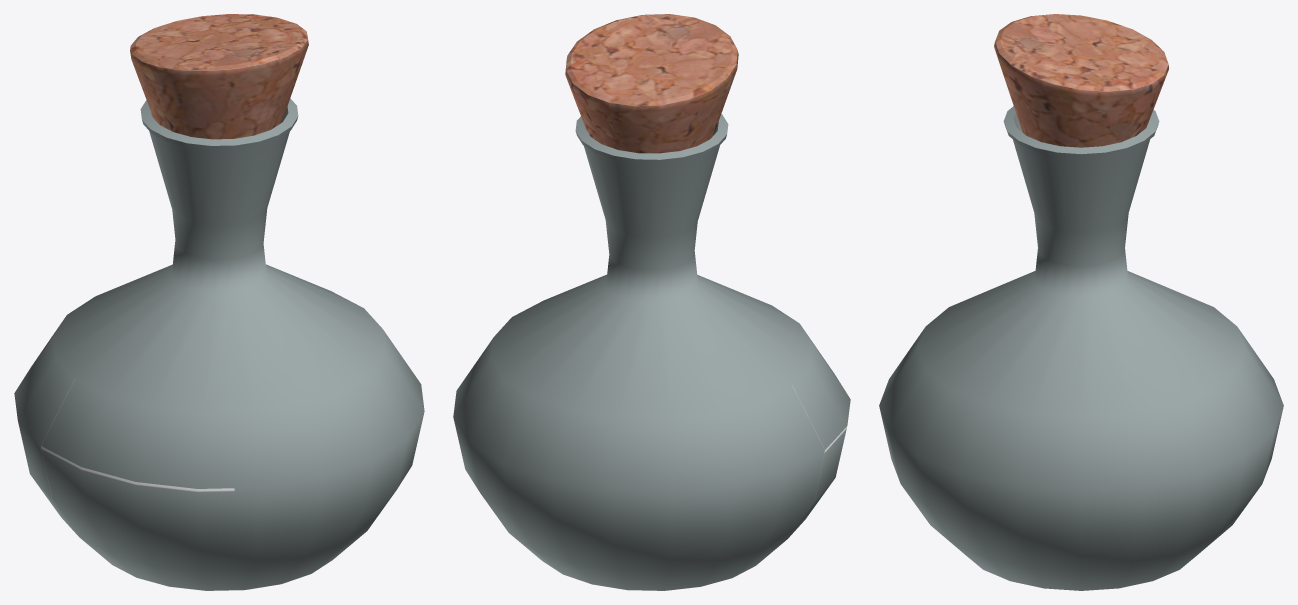
The model's file is mana_potion.glb.
3 renders of one model, left to right at view 1: azimuth 30°, elevation 25°; view 2: azimuth 150°, elevation 25°; view 3: azimuth 270°, elevation 25°, orthographic. The views are drawn at different scales.
Visible parts, largest first — view 1: polySurface9, pasted__pCylinder2; view 2: polySurface9, pasted__pCylinder2; view 3: polySurface9, pasted__pCylinder2.
Part boxes in pixels (x1,y1,x2,y2): polySurface9: [14, 98, 424, 590]; pasted__pCylinder2: [130, 14, 308, 139]; polySurface9: [453, 114, 850, 590]; pasted__pCylinder2: [565, 14, 738, 153]; polySurface9: [879, 106, 1283, 590]; pasted__pCylinder2: [994, 14, 1168, 147].
Size of the model in its own units: 0.00603 by 0.00842 by 0.00603.
Materials: 2 (2 with a texture image).
